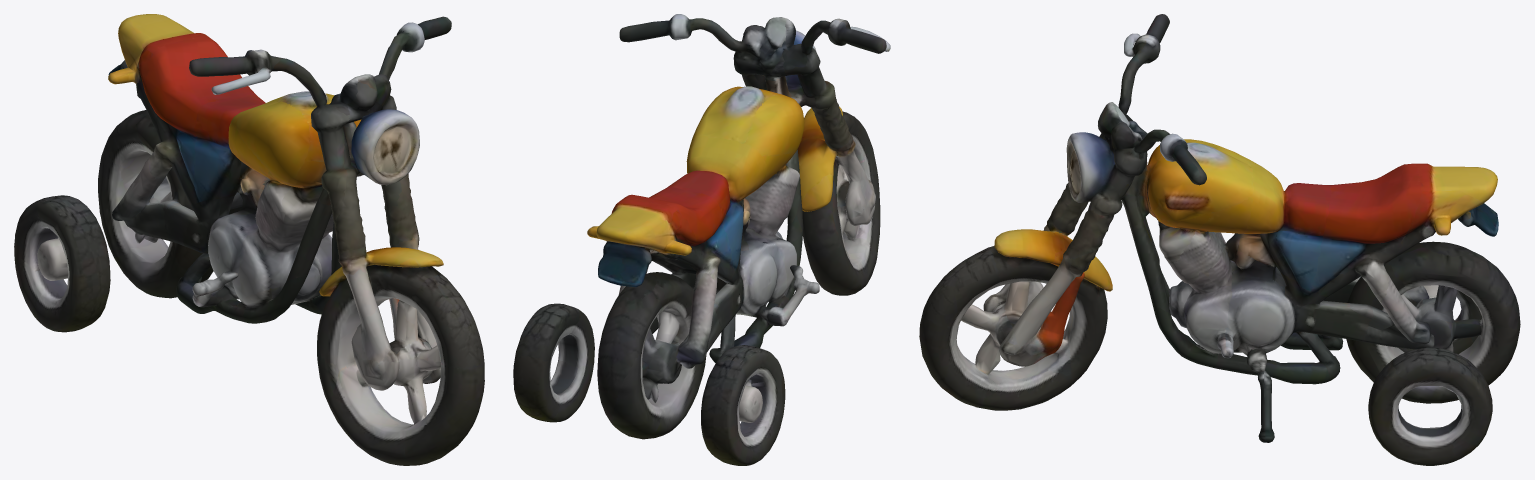
The model's file is motorcycle.glb.
3 views of the same model, side by side, from view 1: azimuth 30°, elevation 25°; view 2: azimuth 150°, elevation 25°; view 3: azimuth 270°, elevation 25° (orthographic). The views are drawn at different scales.
Parts seen in each view (by area): view 1: tripo_node_2e4cce1d-913c-4d3e-b698-df0b8bec7fbf; view 2: tripo_node_2e4cce1d-913c-4d3e-b698-df0b8bec7fbf; view 3: tripo_node_2e4cce1d-913c-4d3e-b698-df0b8bec7fbf.
Part boxes in pixels (x1=…): tripo_node_2e4cce1d-913c-4d3e-b698-df0b8bec7fbf: x1=14, y1=14, x2=484, y2=465; tripo_node_2e4cce1d-913c-4d3e-b698-df0b8bec7fbf: x1=513, y1=14, x2=890, y2=465; tripo_node_2e4cce1d-913c-4d3e-b698-df0b8bec7fbf: x1=919, y1=14, x2=1520, y2=465.
Bounding box in the file's own units: 0.478 × 0.6078 × 0.9472.
Materials: 1 (1 with a texture image).
